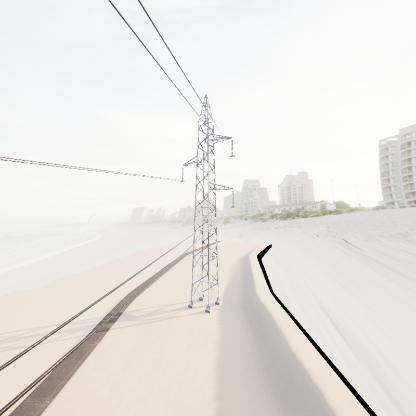tower: (179, 94, 237, 322)
